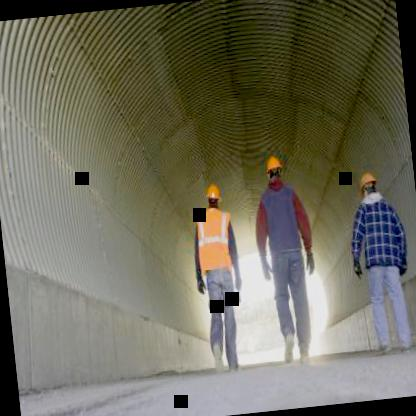helmet: (358, 170, 378, 206), (204, 180, 223, 216), (264, 154, 283, 190)
